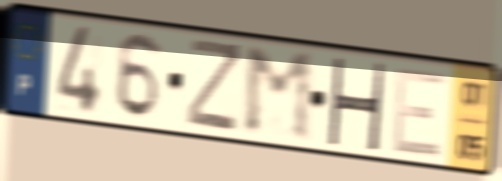4: (54, 22, 104, 117)
6: (111, 31, 164, 122)
E: (389, 65, 448, 162)
H: (323, 54, 388, 155)
M: (242, 44, 316, 145)
Z: (183, 36, 245, 137)
